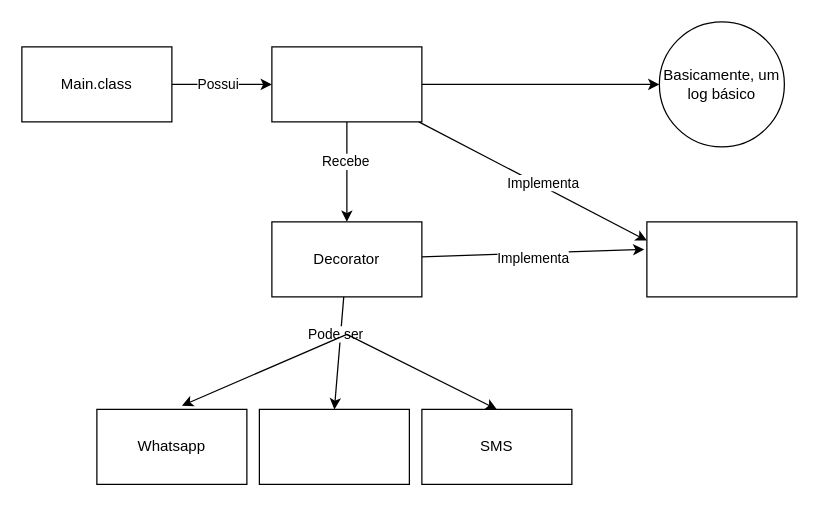
Some shapes in this 819 by 506 pixel diagram are drawn without their labels. Here are the shapes that lost their labels. From the top down, the centre of each, then its label:
At (x=346, y=84): "Notificador".
At (x=721, y=259): "INoticador".
At (x=333, y=446): "Email".
